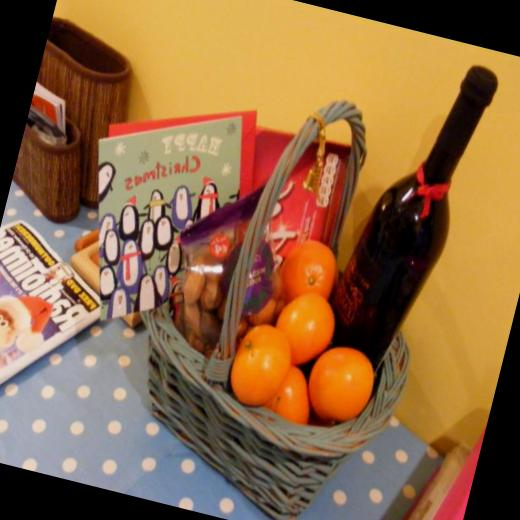Grape: (300, 340, 381, 432), (224, 320, 298, 414), (268, 287, 341, 373), (272, 233, 346, 317), (260, 361, 320, 426)
